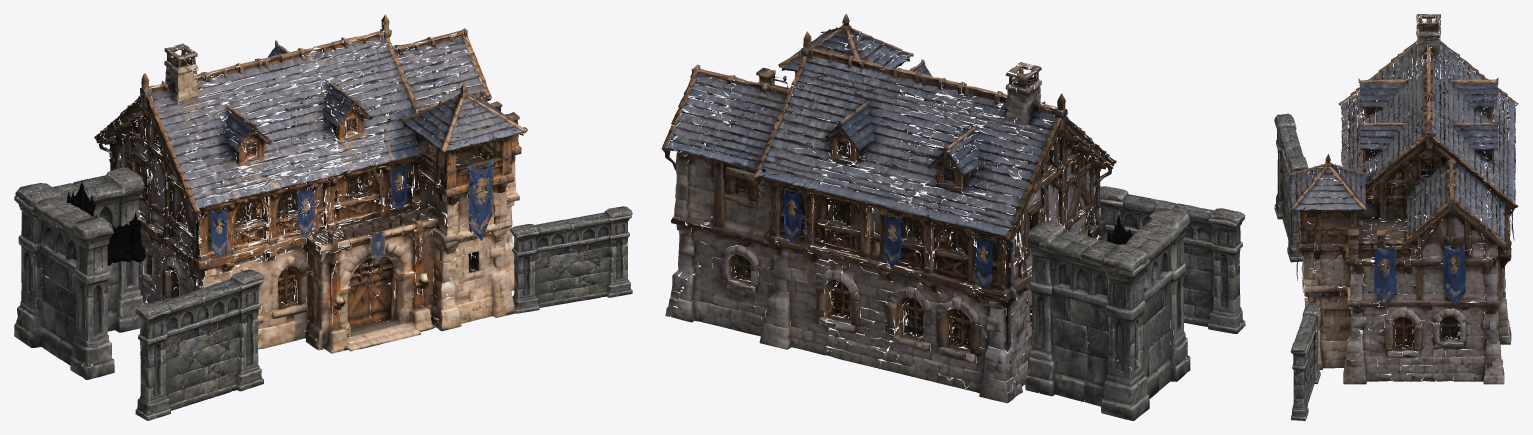
File: Valoria_Cuartel_GCSUv1.glb
3 renders of one model, left to right at view 1: azimuth 30°, elevation 25°; view 2: azimuth 150°, elevation 25°; view 3: azimuth 270°, elevation 25°, orthographic. The views are drawn at different scales.
Visible parts, largest first — view 1: Cuartel core · authored 00, Cuartel guard corner · authored 00, Cuartel west training-wall · authored 00, Cuartel east training-wall · authored 00, Cuartel guard corner · authored 01; view 2: Cuartel core · authored 00, Cuartel guard corner · authored 00, Cuartel west training-wall · authored 00, Cuartel east training-wall · authored 00; view 3: Cuartel core · authored 00, Cuartel west training-wall · authored 00, Cuartel east training-wall · authored 00, Cuartel guard corner · authored 00, Cuartel guard corner · authored 01.
Boxes of the visible parts, x1,y1,x2,y2 form: Cuartel core · authored 00: (94,14,527,353); Cuartel guard corner · authored 00: (14,167,144,379); Cuartel west training-wall · authored 00: (135,269,263,420); Cuartel east training-wall · authored 00: (509,206,632,313); Cuartel guard corner · authored 01: (64,181,146,265); Cuartel core · authored 00: (661,14,1116,403); Cuartel guard corner · authored 00: (1025,208,1190,420); Cuartel west training-wall · authored 00: (1096,186,1245,333); Cuartel east training-wall · authored 00: (703,123,817,239); Cuartel core · authored 00: (1290,14,1518,384); Cuartel west training-wall · authored 00: (1274,113,1308,262); Cuartel east training-wall · authored 00: (1290,303,1320,420); Cuartel guard corner · authored 00: (1373,73,1484,248); Cuartel guard corner · authored 01: (1405,78,1447,163).
Size of the model in its own units: 5.51 by 2.87 by 2.61.
6 materials, 6 textured.
